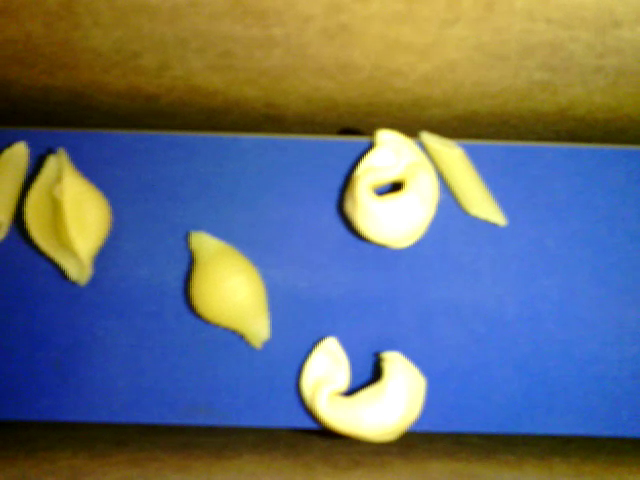penne: (421, 129, 507, 228), (1, 141, 31, 237)
shell: (25, 148, 113, 288), (184, 230, 269, 350)
tortellini: (300, 335, 425, 443), (338, 128, 438, 249)
